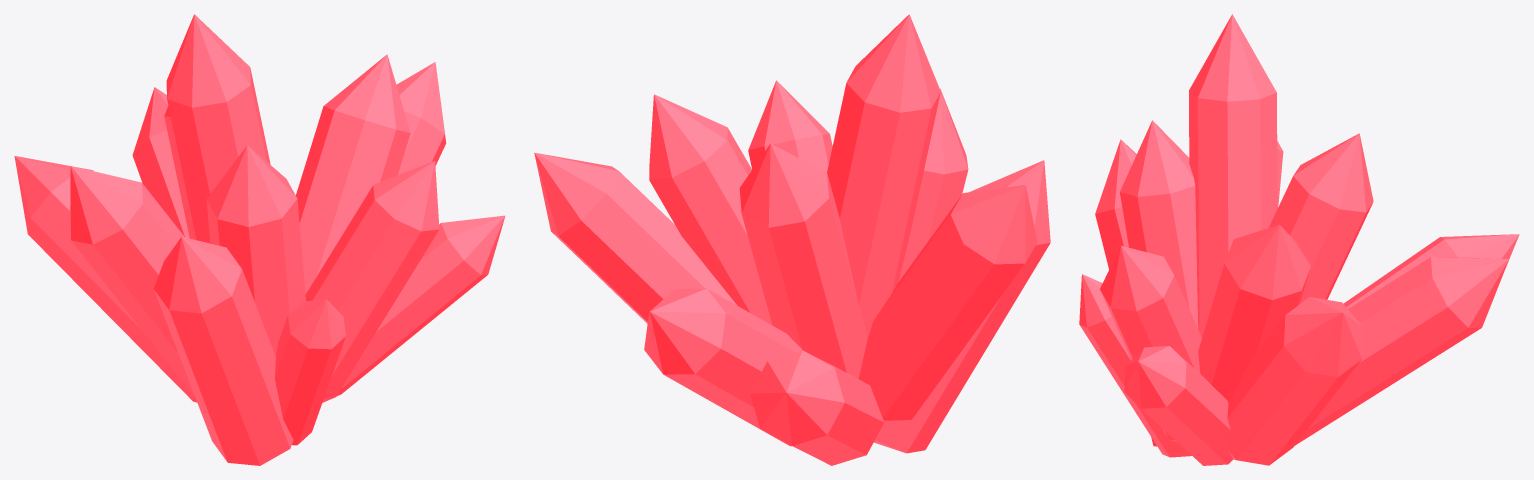
File: SM_EnemyCrystal.fbx
3 renders of one model, left to right at view 1: azimuth 30°, elevation 25°; view 2: azimuth 150°, elevation 25°; view 3: azimuth 270°, elevation 25°, orthographic. The views are drawn at different scales.
Visible parts, largest first — view 1: SM_EnemyCrystal; view 2: SM_EnemyCrystal; view 3: SM_EnemyCrystal.
Part boxes in pixels (bbox=[...]): SM_EnemyCrystal: bbox=[14, 14, 505, 465]; SM_EnemyCrystal: bbox=[534, 14, 1050, 465]; SM_EnemyCrystal: bbox=[1079, 14, 1519, 465].
Size of the model in its own units: 420 by 418 by 397.
